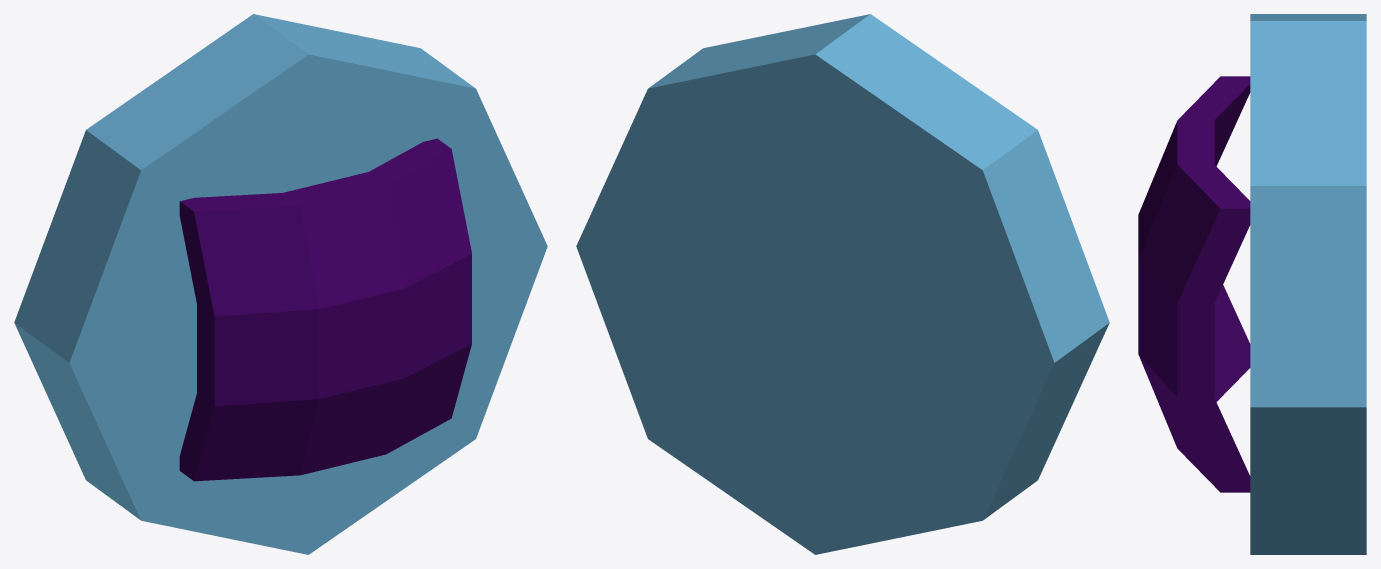
File: pickup_shield.gltf
The picture shows the model from 3 angles, left to right: view 1: azimuth 30°, elevation 25°; view 2: azimuth 150°, elevation 25°; view 3: azimuth 270°, elevation 25°; orthographic projection. The views are drawn at different scales.
Parts seen in each view (by area): view 1: rocket_pickup, shield_pickup; view 2: rocket_pickup; view 3: rocket_pickup, shield_pickup.
Part boxes in pixels (<box>): rocket_pickup: <box>14,14,547,554</box>; shield_pickup: <box>179,138,471,481</box>; rocket_pickup: <box>576,14,1109,554</box>; rocket_pickup: <box>1250,14,1366,554</box>; shield_pickup: <box>1138,76,1250,492</box>.
Bounding box in the file's own units: 2 × 2 × 0.786.
